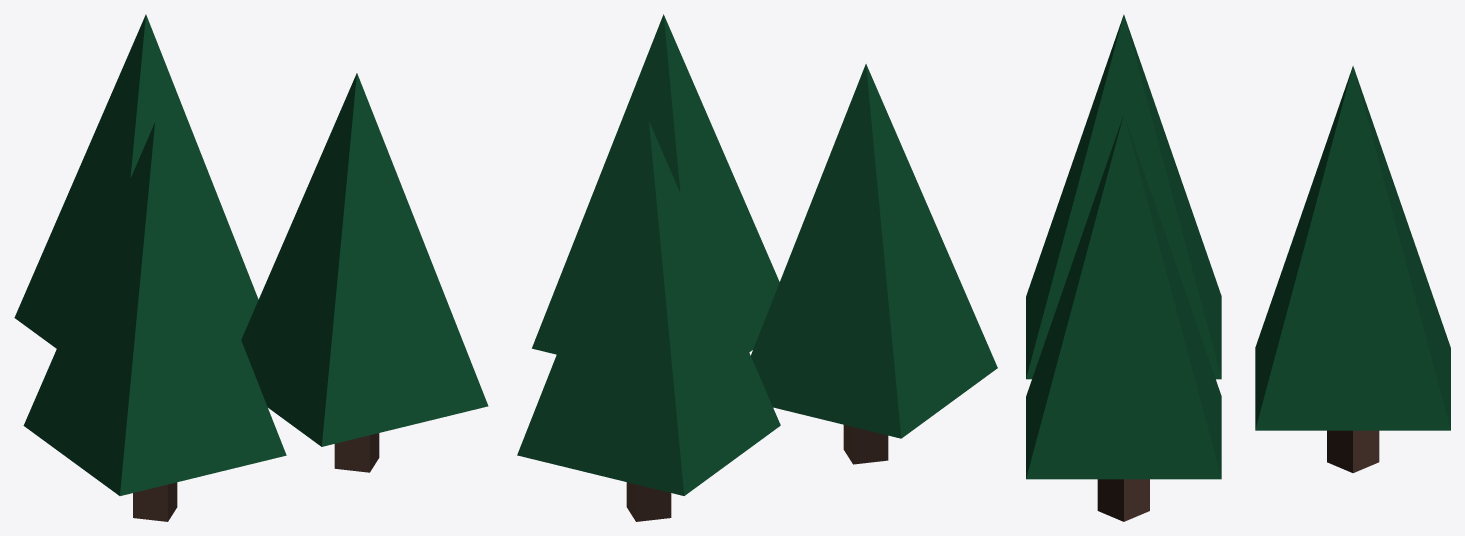
File: TB_Env_Tree_A_Med.FBX
3 views of the same model, side by side, from view 1: azimuth 30°, elevation 25°; view 2: azimuth 150°, elevation 25°; view 3: azimuth 270°, elevation 25° (orthographic).
Parts seen in each view (by area): view 1: TB_Env_Tree_A_Med; view 2: TB_Env_Tree_A_Med; view 3: TB_Env_Tree_A_Med.
Part boxes in pixels (<box>): TB_Env_Tree_A_Med: <box>14,14,488,521</box>; TB_Env_Tree_A_Med: <box>517,14,997,521</box>; TB_Env_Tree_A_Med: <box>1026,14,1450,521</box>.
Size of the model in its own units: 5.97 by 6.04 by 5.86.
